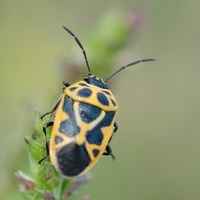insect: (39, 26, 154, 176)
